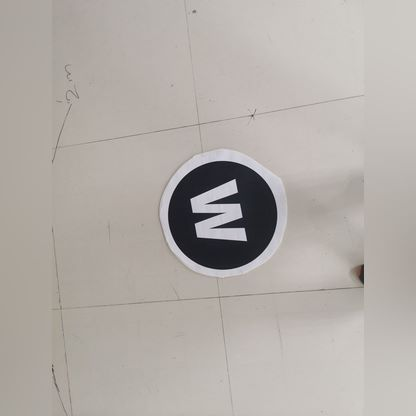W: (179, 172, 256, 254)
